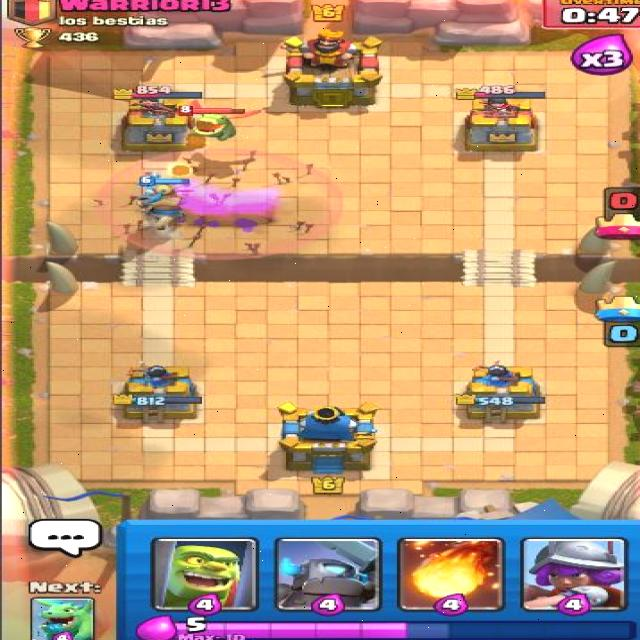Enemy-BabyDragon: (177, 97, 265, 142)
Player-Prince: (136, 175, 193, 232)
